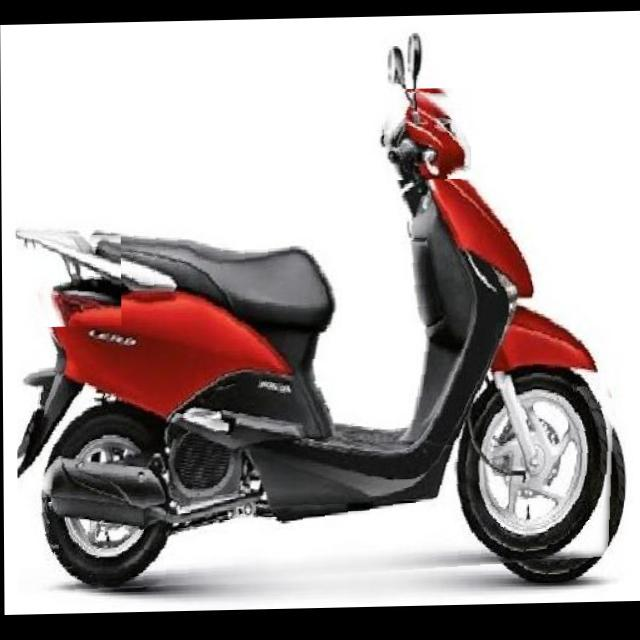All: (15, 87, 630, 597)
Head: (381, 92, 471, 182)
Tail: (31, 231, 121, 328)
